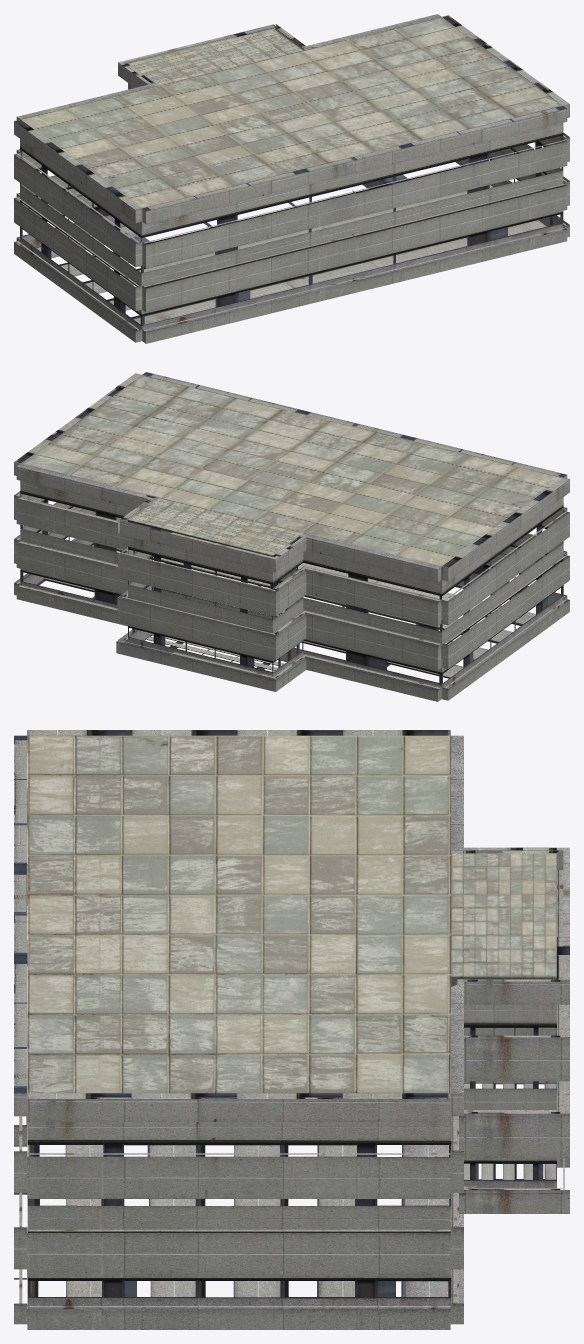
Rendered from BagSS05mid_200.fbx.
The picture shows the model from 3 angles, top to bottom: view 1: azimuth 30°, elevation 25°; view 2: azimuth 150°, elevation 25°; view 3: azimuth 270°, elevation 25°; orthographic projection. The views are drawn at different scales.
Visible parts, largest first — view 1: midRoof200, midMain2000, midBoxA200; view 2: midRoof200, midMain2000, midBoxA200, midBoxB200; view 3: midRoof200, midMain2000, midBoxA200, midBoxB200.
Boxes of the visible parts, x1,y1,x2,y2 form: midRoof200: (21,17,562,208); midMain2000: (14,14,569,343); midBoxA200: (20,110,563,331); midRoof200: (21,375,562,566); midMain2000: (14,372,569,701); midBoxA200: (20,480,563,698); midBoxB200: (128,520,303,675); midRoof200: (27,735,556,1093); midMain2000: (14,730,569,1329); midBoxA200: (27,1116,451,1309); midBoxB200: (452,976,556,1188).
Size of the model in its own units: 42.25 by 12.33 by 26.9.
